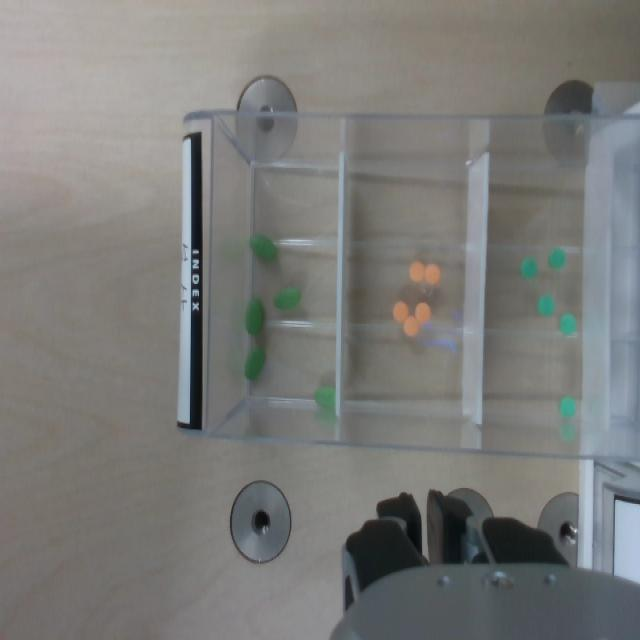famodine: (521, 257, 538, 279), (549, 248, 565, 270), (560, 397, 576, 418), (561, 314, 576, 334), (538, 295, 553, 315)
otillen_tab: (250, 234, 276, 263), (246, 344, 264, 380), (274, 285, 300, 309), (246, 298, 262, 334), (316, 384, 336, 406)
samsung_octylonium_tab: (409, 261, 426, 283), (404, 314, 419, 336), (393, 301, 409, 321), (416, 302, 431, 322), (426, 264, 440, 285)
